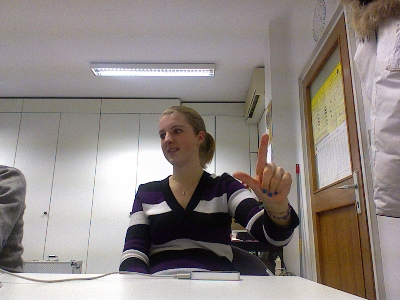枪: (230, 132, 292, 204)
